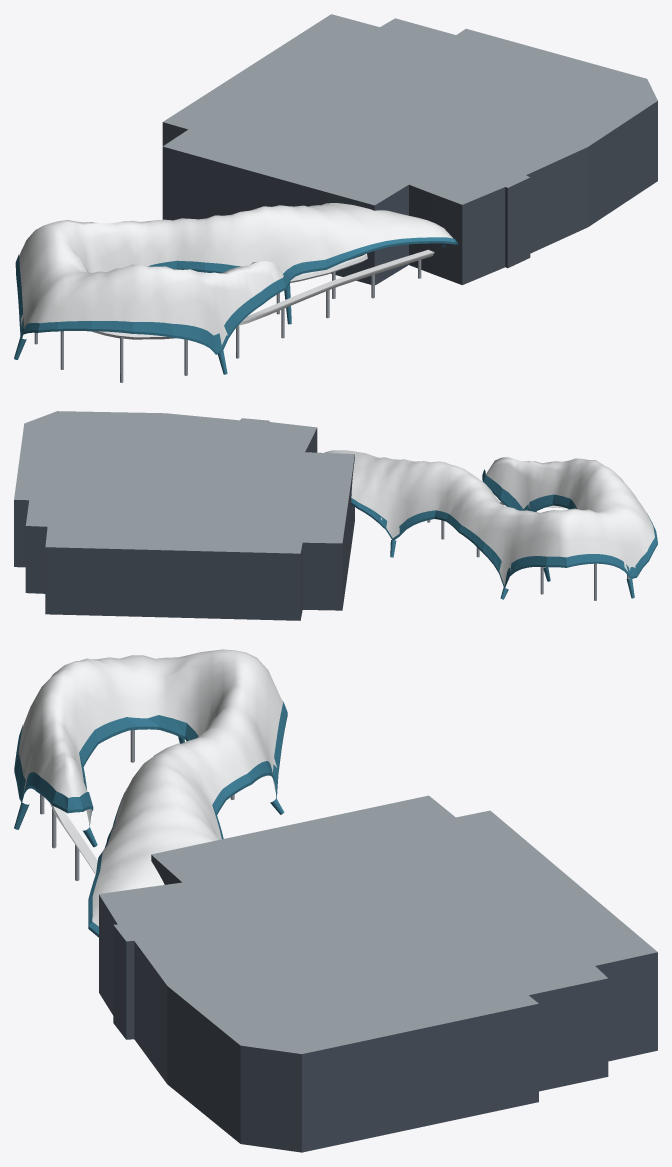
File: wdw-tron-lightcycle-run.glb
The picture shows the model from 3 angles, top to bottom: view 1: azimuth 30°, elevation 25°; view 2: azimuth 150°, elevation 25°; view 3: azimuth 270°, elevation 25°; orthographic projection. The views are drawn at different scales.
Visible parts, largest first — view 1: TRON Lightcycle / Run; view 2: TRON Lightcycle / Run; view 3: TRON Lightcycle / Run.
Boxes of the visible parts, bbox=[...] form: TRON Lightcycle / Run: bbox=[14, 14, 657, 382]; TRON Lightcycle / Run: bbox=[14, 411, 657, 620]; TRON Lightcycle / Run: bbox=[14, 649, 657, 1152].
Bounding box in the file's own units: 205 × 30.85 × 136.
